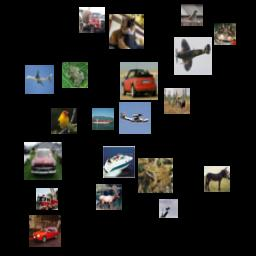airplane: (174, 37, 212, 75), (119, 102, 151, 134), (25, 65, 54, 94)
automobile: (24, 142, 62, 180), (120, 62, 158, 100), (29, 215, 61, 247)
bird: (51, 108, 77, 134), (181, 4, 203, 26), (159, 199, 178, 218)
cat: (109, 14, 144, 49)
deer: (164, 88, 190, 114), (96, 184, 122, 210)
frog: (138, 158, 173, 193), (62, 62, 88, 88), (214, 23, 236, 45)
ship: (103, 146, 135, 178), (92, 108, 114, 130)
truck: (79, 7, 105, 33), (36, 188, 58, 210)
